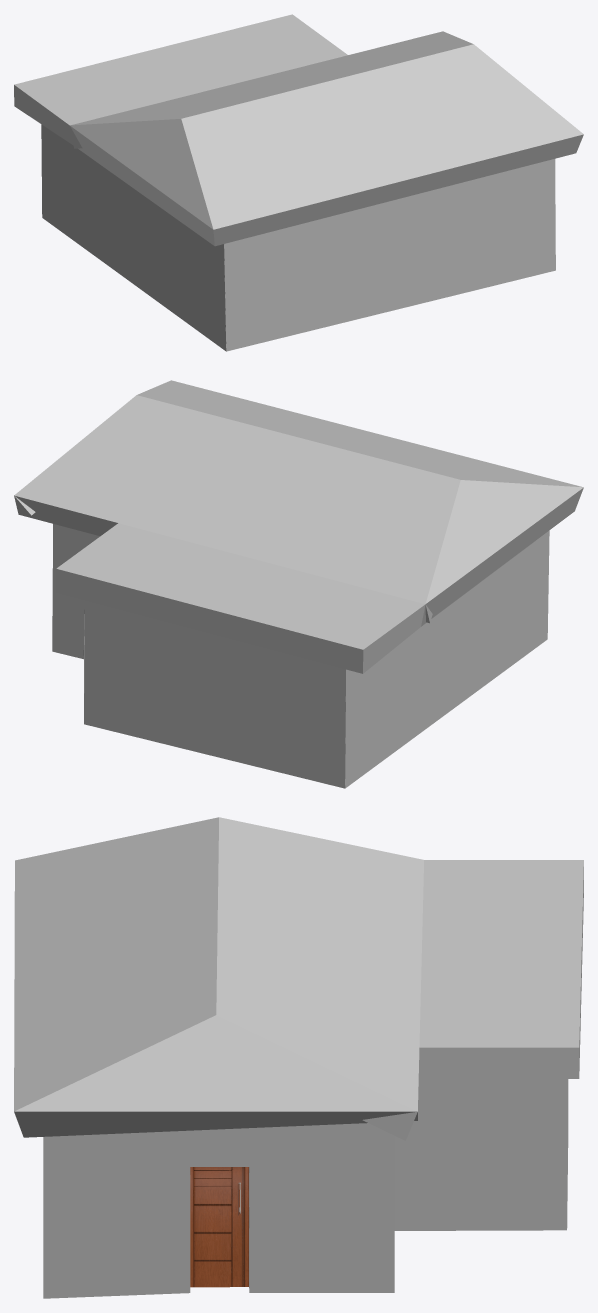
The model's file is Omah 4.fbx.
The picture shows the model from 3 angles, top to bottom: view 1: azimuth 30°, elevation 25°; view 2: azimuth 150°, elevation 25°; view 3: azimuth 270°, elevation 25°; orthographic projection. The views are drawn at different scales.
Visible parts, largest first — view 1: Atap.002, Pintu; view 2: Atap.002, Pintu; view 3: Atap.002, Pintu, Pintu.001.
Boxes of the visible parts, box(x1,y1,x2,y2) form: Atap.002: box(14, 14, 583, 246); Pintu: box(41, 124, 555, 351); Atap.002: box(14, 380, 583, 673); Pintu: box(52, 524, 549, 788); Atap.002: box(14, 817, 583, 1140); Pintu: box(43, 1060, 568, 1298); Pintu.001: box(190, 1167, 248, 1287).
Size of the model in its own units: 1248 by 604 by 1158.
